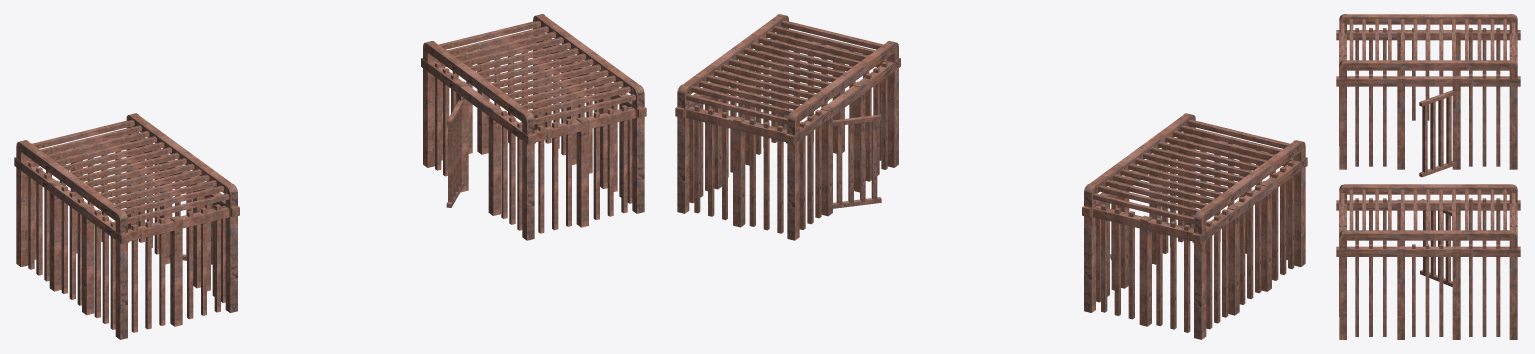
File: jaulas.fbx
The picture shows the model from 3 angles, left to right: view 1: azimuth 30°, elevation 25°; view 2: azimuth 150°, elevation 25°; view 3: azimuth 270°, elevation 25°; orthographic projection. The views are drawn at different scales.
Visible parts, largest first — view 1: pCube334, pCube273, pCube261, pCube269, pCube330, pCube270, pCube331, pCube322, pCube298, pCube339, pCube278, pCube234 (+67 smaller); view 2: pCube334, pCube273, pCube261, pCube234, pCube298, pCube271, pCube322, pCube332, pCube326, pCube265, pCube330, pCube269 (+69 smaller); view 3: pCube260, pCube321, pCube272, pCube333, pCube273, pCube334, pCube322, pCube261, pCube332, pCube271, pCube248, pCube310 (+66 smaller).
Part boxes in pixels (x1,y1,x2,y2): pCube334: (20,141,122,221); pCube273: (427,42,529,121); pCube261: (421,58,535,144); pCube269: (522,111,534,240); pCube330: (115,211,127,339); pCube270: (632,85,644,213); pCube331: (225,184,237,312); pCube322: (14,157,129,244); pCube298: (16,140,28,266); pCube339: (170,216,182,326); pCube278: (576,116,588,227); pCube234: (423,41,435,167); pCube334: (1199,141,1301,221); pCube273: (792,42,894,121); pCube261: (786,58,900,144); pCube234: (787,111,799,240); pCube298: (1194,211,1206,339); pCube271: (677,85,689,213); pCube322: (1192,157,1307,244); pCube332: (1084,184,1095,312); pCube326: (1139,215,1151,326); pCube265: (733,116,745,227); pCube330: (1293,140,1305,266); pCube269: (886,41,898,167); pCube260: (1336,246,1520,256); pCube321: (1336,76,1520,86); pCube272: (1347,230,1509,240); pCube333: (1347,60,1509,70); pCube273: (1347,184,1509,194); pCube334: (1347,14,1509,24); pCube322: (1336,30,1520,40); pCube261: (1336,200,1520,210); pCube332: (1509,60,1517,169); pCube271: (1509,230,1517,339); pCube248: (1452,246,1460,339); pCube310: (1452,75,1460,169).
Size of the model in its own units: 1590 by 359 by 563.
